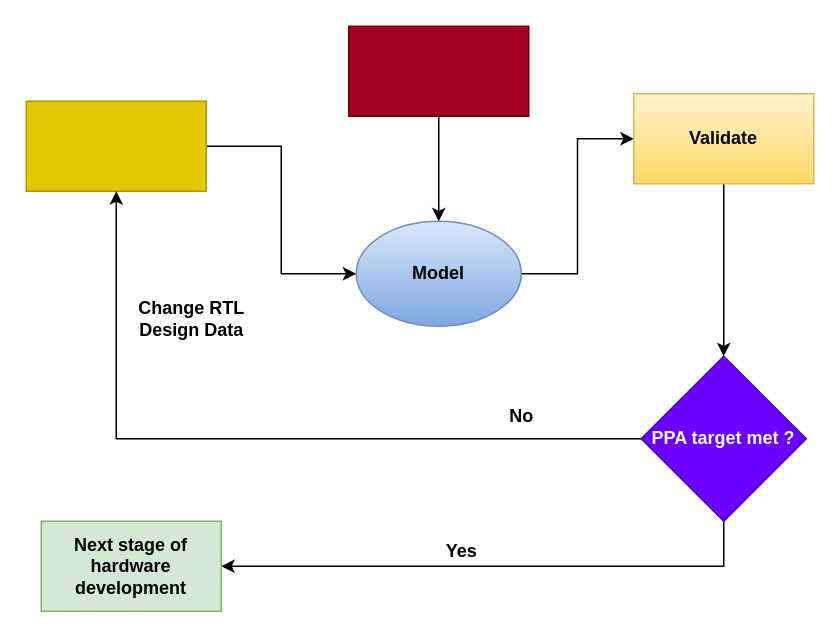
Image size: 840x638. Some labels were removed from this diagram. The shapes that lost their labels are listed below. From the top down, each one's box as (x1, y1, x2, y2) in pixels, then its label:
(347, 25, 529, 116): PPA Model Generation Framework
(25, 100, 206, 191): RTL Design Data
